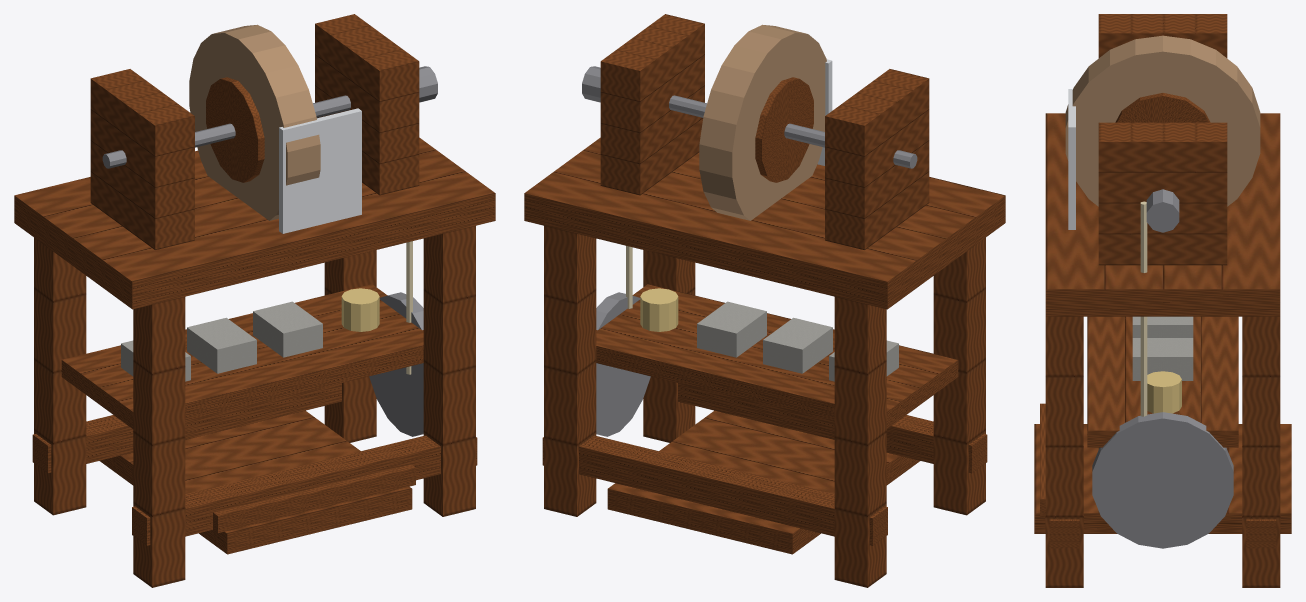
Rendered from polishing-wheel-bench-1-1-m.glb.
3 views of the same model, side by side, from view 1: azimuth 30°, elevation 25°; view 2: azimuth 150°, elevation 25°; view 3: azimuth 270°, elevation 25° (orthographic).
Visible parts, largest first — view 1: blacksmith-forge-and-armoury-polishing-wheel-bench, treadle/timber, wheel-spin/leather, wheel-spin/timber, wheel-spin/iron; view 2: blacksmith-forge-and-armoury-polishing-wheel-bench, wheel-spin/leather, treadle/timber, wheel-spin/timber, wheel-spin/iron; view 3: blacksmith-forge-and-armoury-polishing-wheel-bench, wheel-spin/leather, treadle/timber, wheel-spin/timber.
Part boxes in pixels (x1,y1,x2,y2): blacksmith-forge-and-armoury-polishing-wheel-bench: (14, 14, 495, 587); treadle/timber: (100, 410, 415, 554); wheel-spin/leather: (189, 24, 320, 220); wheel-spin/timber: (206, 77, 264, 182); wheel-spin/iron: (102, 95, 350, 168); blacksmith-forge-and-armoury-polishing-wheel-bench: (524, 14, 1005, 587); wheel-spin/leather: (699, 24, 826, 220); treadle/timber: (607, 410, 919, 554); wheel-spin/timber: (755, 77, 813, 182); wheel-spin/iron: (669, 95, 917, 168); blacksmith-forge-and-armoury-polishing-wheel-bench: (1045, 14, 1280, 587); wheel-spin/leather: (1065, 35, 1260, 206); treadle/timber: (1034, 403, 1291, 533); wheel-spin/timber: (1115, 93, 1210, 122).
Size of the model in its own units: 1.1 by 1.36 by 0.68.
Materials: 7 (2 with a texture image).
